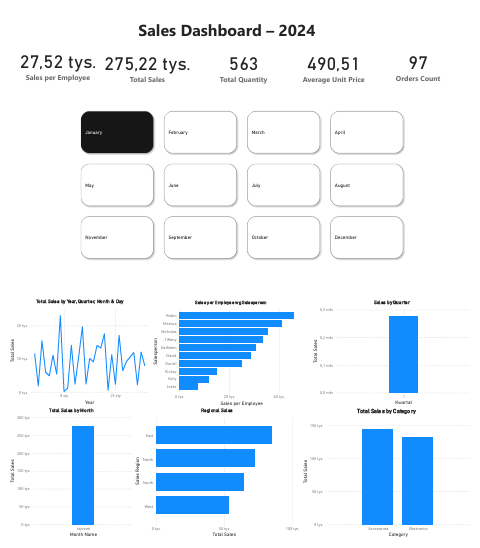

The page's visual inventory and layout, read from the dashboard file:
{"tool":"powerbi","page":{"name":"Strona 1","canvas":[1400,1600],"ordinal":0},"visuals":[{"type":"card","fields":{"Values":["SalesData.Total Sales"]},"box":[279.1,109.6,279.1,139.5],"z":0},{"type":"card","fields":{"Values":["SalesData.Total Quantity"]},"box":[568.5,120.3,277.7,118.1],"z":1000},{"type":"card","fields":{"Values":["SalesData.Average Unit Price"]},"box":[839.7,120.3,277.7,118.1],"z":2000},{"type":"card","fields":{"Values":["SalesData.Orders Count"]},"box":[1092,123,280,111],"z":3000},{"type":"card","fields":{"Values":["SalesData.Sales per Employee"]},"box":[10.9,100.6,277.7,148.7],"z":4000},{"type":"lineChart","title":"Total Sales by Year, Quarter, Month & Day","fields":{"Y":["SalesData.Total Sales"],"Category":["SalesData.Date.Odmiana.Hierarchia dat.Rok","SalesData.Date.Odmiana.Hierarchia dat.Kwartał","SalesData.Date.Odmiana.Hierarchia dat.Miesiąc","SalesData.Date.Odmiana.Hierarchia dat.Dzień"]},"box":[0,879.7,431.5,322],"z":5000},{"type":"columnChart","title":"Total Sales by Month","fields":{"Y":["SalesData.Total Sales"],"Category":["SalesData.Nazwa miesiąca"]},"box":[0,1205,381.7,395],"z":6000},{"type":"columnChart","title":"Sales by Quarter","fields":{"Y":["SalesData.Total Sales"],"Category":["SalesData.Kwartał"]},"box":[911.2,881.7,485,322],"z":7000},{"type":"barChart","title":"Regional Sales","fields":{"Y":["SalesData.Total Sales"],"Category":["SalesData.Region"]},"box":[375.1,1205,504.6,395],"z":8000},{"type":"columnChart","title":"Total Sales by Category","fields":{"Y":["SalesData.Total Sales"],"Category":["SalesData.Category"]},"box":[879.7,1205,514.5,395],"z":9000},{"type":"barChart","fields":{"Y":["SalesData.Sales per Employee"],"Category":["SalesData.Salesperson"]},"box":[429.2,882.7,482,322],"z":10000},{"type":"advancedSlicerVisual","fields":{"Values":["SalesData.Month Name EN"]},"box":[202.5,298.8,1005.8,478],"z":11000},{"type":"textbox","box":[361.8,0,590.9,149.4],"z":12000}]}

Visuals, with their boxes in screenshot pixels (x1, y1, x2, y2), scaled from the page's 1400x1600 canvas onto the 480x548 screenshot:
card - SalesData.Total Sales: x1=96, y1=38, x2=191, y2=85
card - SalesData.Total Quantity: x1=195, y1=41, x2=290, y2=82
card - SalesData.Average Unit Price: x1=288, y1=41, x2=383, y2=82
card - SalesData.Orders Count: x1=374, y1=42, x2=470, y2=80
card - SalesData.Sales per Employee: x1=4, y1=34, x2=99, y2=85
"Total Sales by Year, Quarter, Month & Day" lineChart: x1=0, y1=301, x2=148, y2=412
"Total Sales by Month" columnChart: x1=0, y1=413, x2=131, y2=547
"Sales by Quarter" columnChart: x1=312, y1=302, x2=479, y2=412
"Regional Sales" barChart: x1=129, y1=413, x2=302, y2=547
"Total Sales by Category" columnChart: x1=302, y1=413, x2=478, y2=547
barChart - SalesData.Sales per Employee x SalesData.Salesperson: x1=147, y1=302, x2=312, y2=413
advancedSlicerVisual - SalesData.Month Name EN: x1=69, y1=102, x2=414, y2=266
textbox: x1=124, y1=0, x2=327, y2=51
